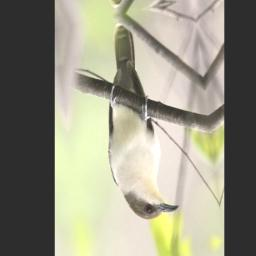Cuckoo: (92, 13, 181, 228)
